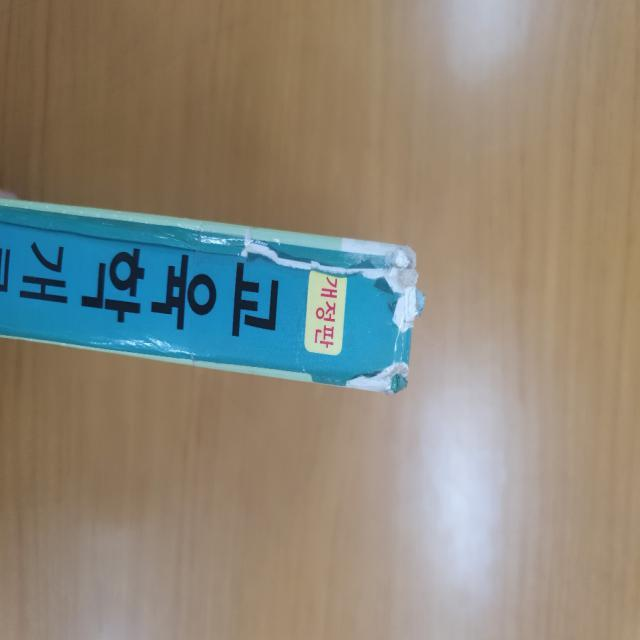Ripped: (234, 227, 429, 338), (313, 359, 416, 401)
